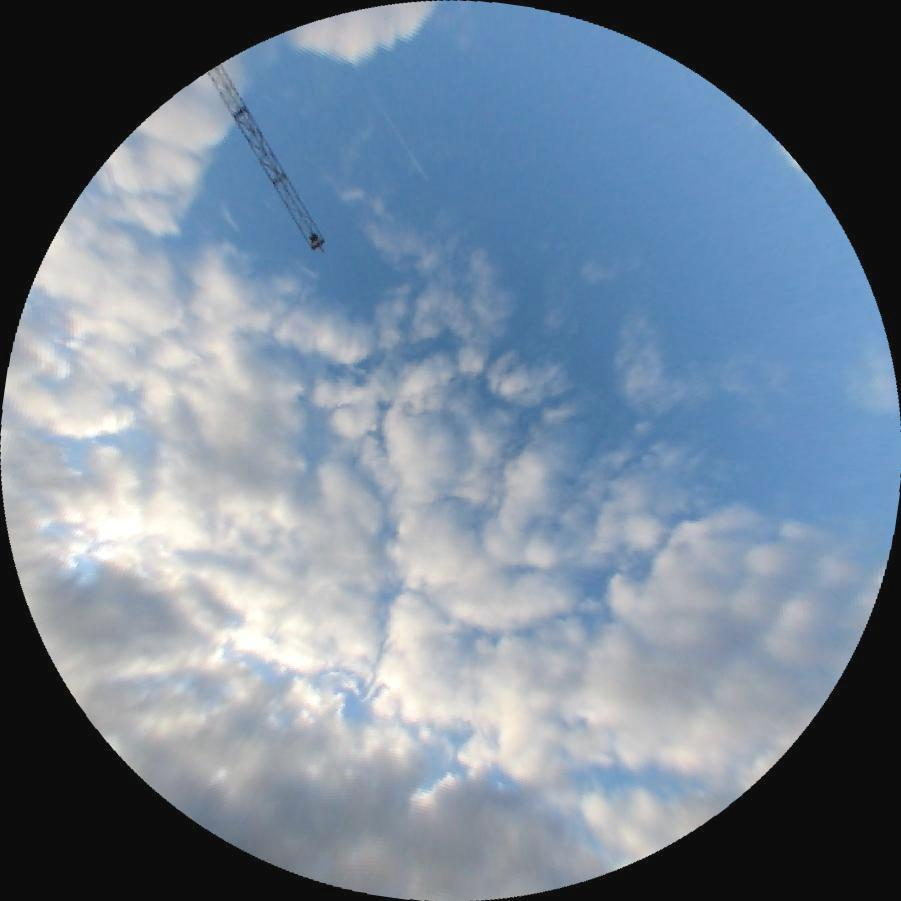contrail young: (376, 101, 429, 183)
